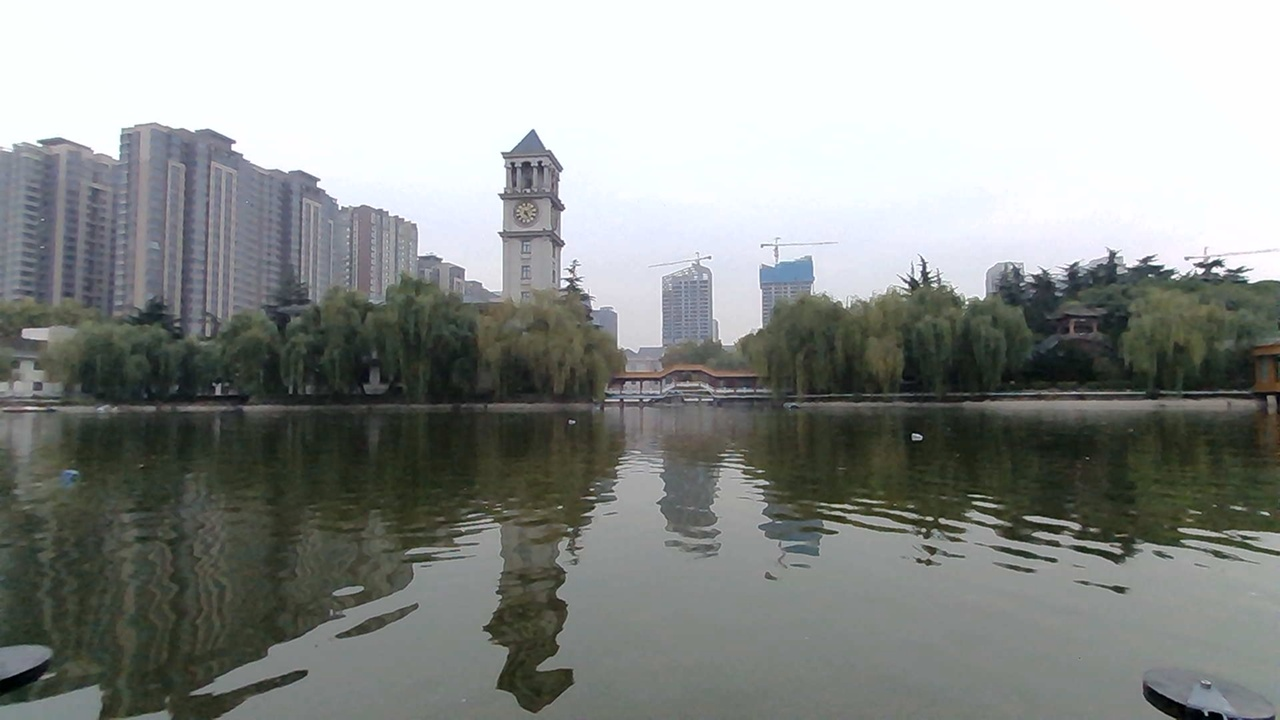bottle: (56, 466, 93, 494), (899, 419, 931, 448)
